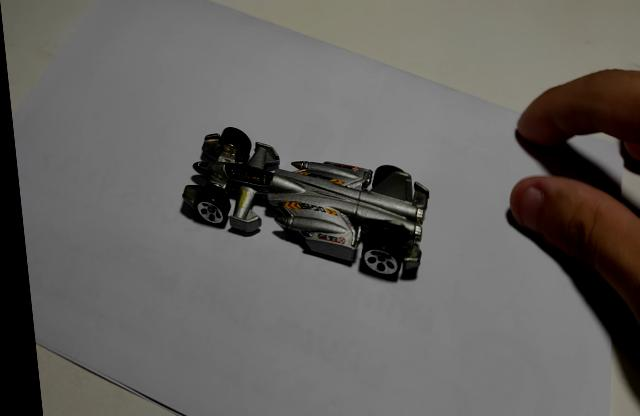05_DC121: (175, 129, 427, 285)
